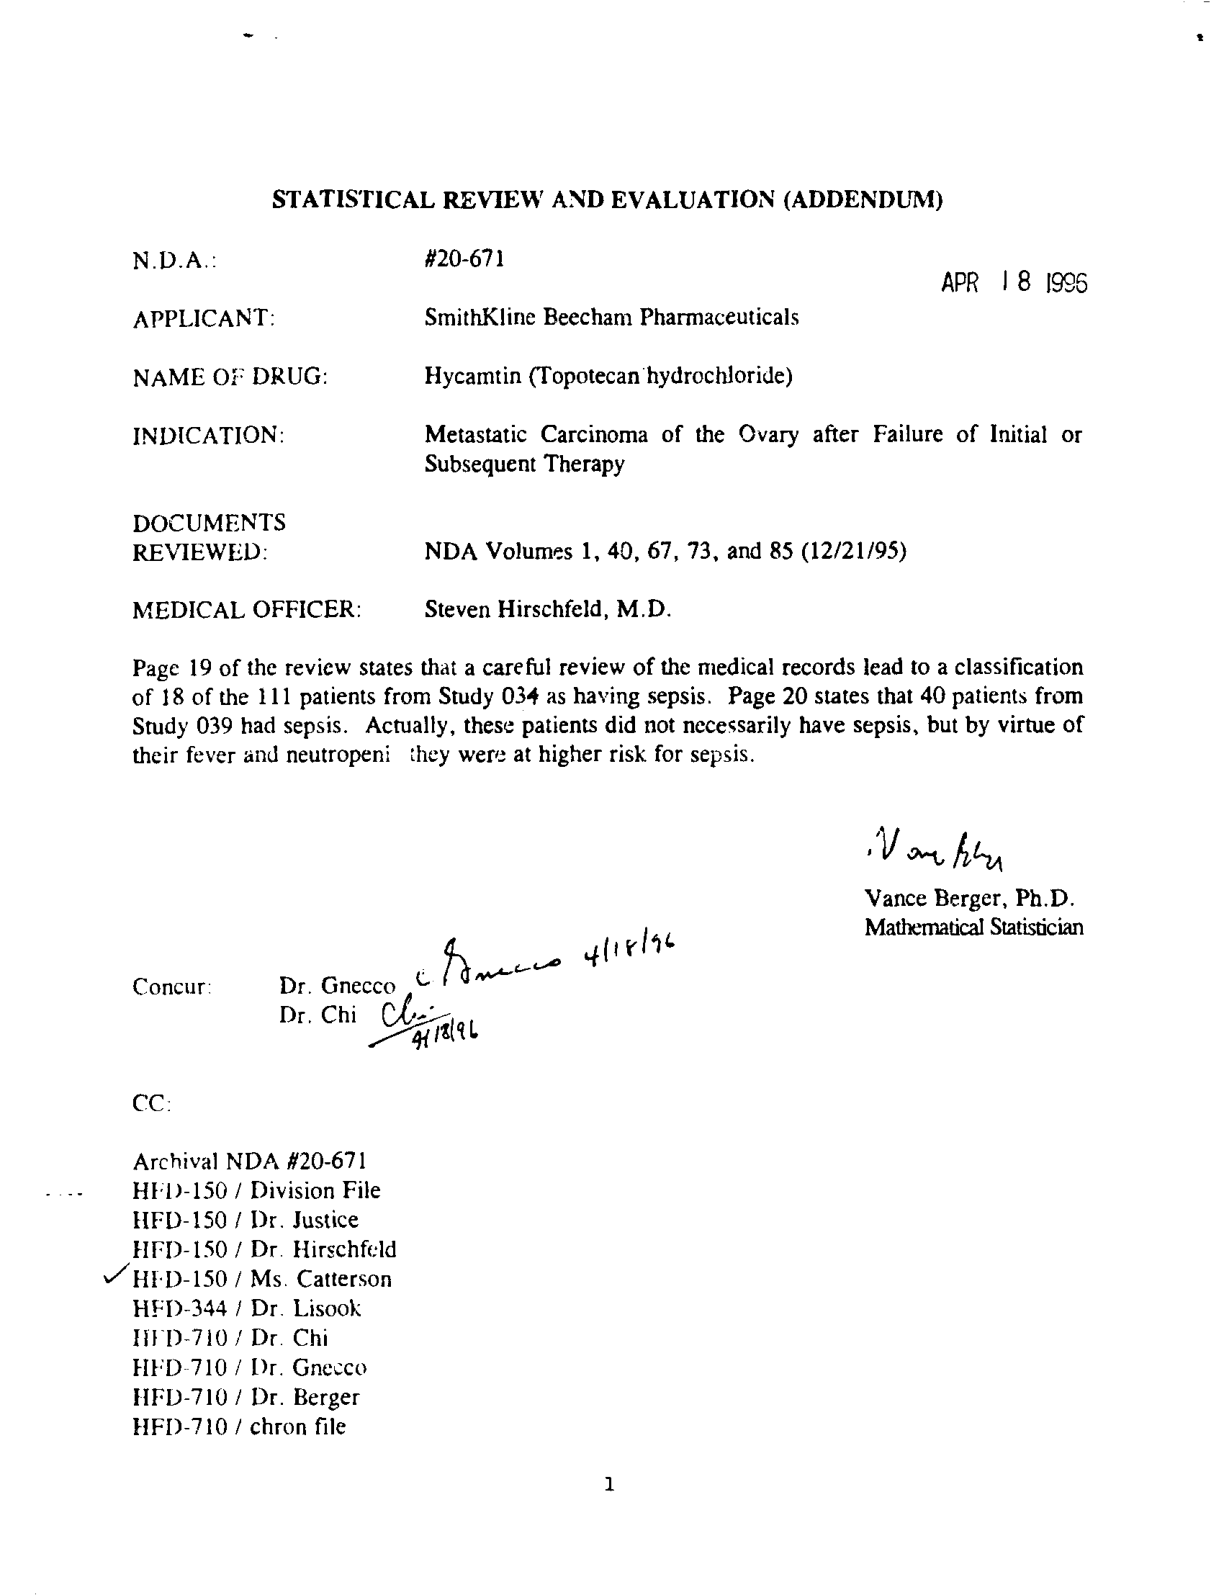nolines: (129, 240, 1088, 625)
